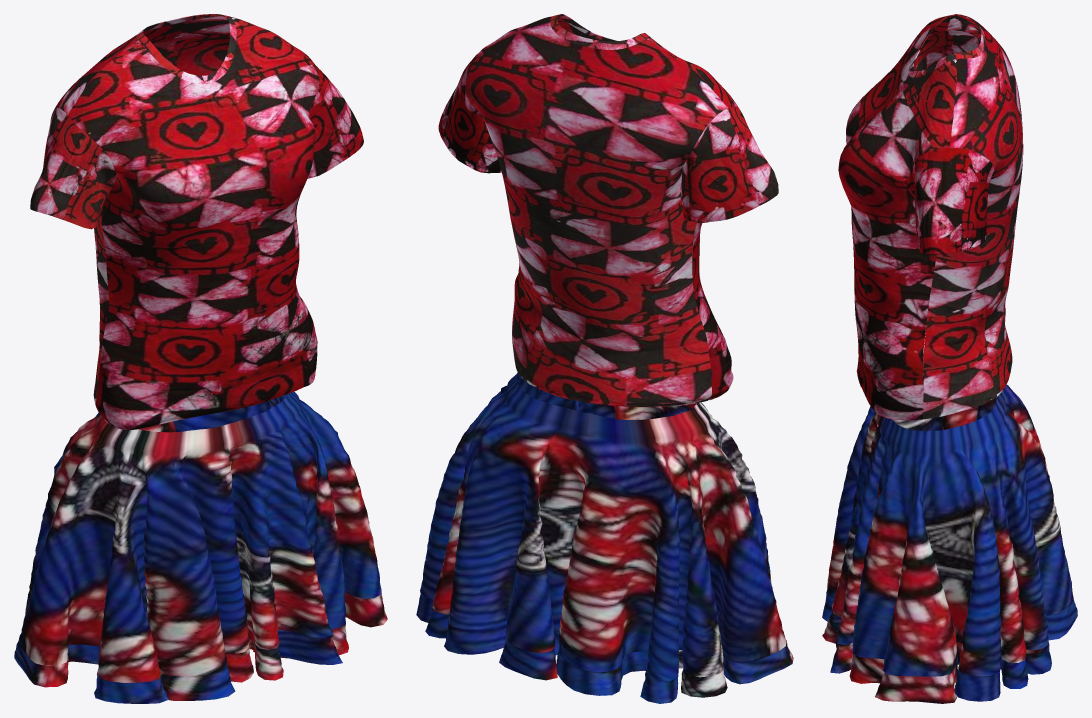
Rendered from tshirt_and_skirt.glb.
3 views of the same model, side by side, from view 1: azimuth 30°, elevation 25°; view 2: azimuth 150°, elevation 25°; view 3: azimuth 270°, elevation 25° (orthographic). The views are drawn at different scales.
Visible parts, largest first — view 1: all, all_two; view 2: all_two, all; view 3: all_two, all.
Boxes of the visible parts, <box> form: all: <box>30,14,363,429</box>; all_two: <box>14,391,387,703</box>; all_two: <box>416,372,793,703</box>; all: <box>438,14,778,406</box>; all_two: <box>822,353,1077,703</box>; all: <box>838,14,1023,420</box>.
Bounding box in the file's own units: 0.3594 × 0.607 × 0.2352.
Materials: 2 (2 with a texture image).
